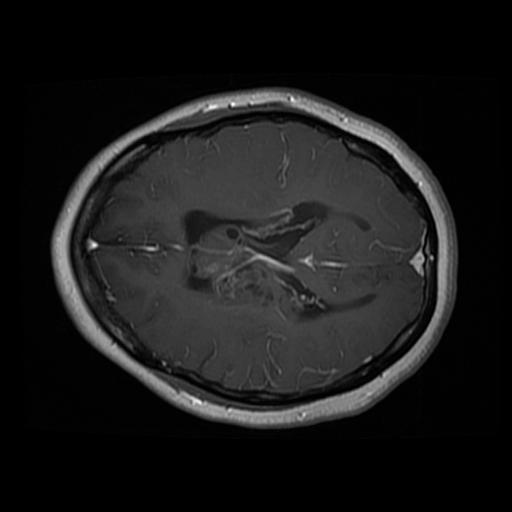glioma: (187, 220, 302, 318)
